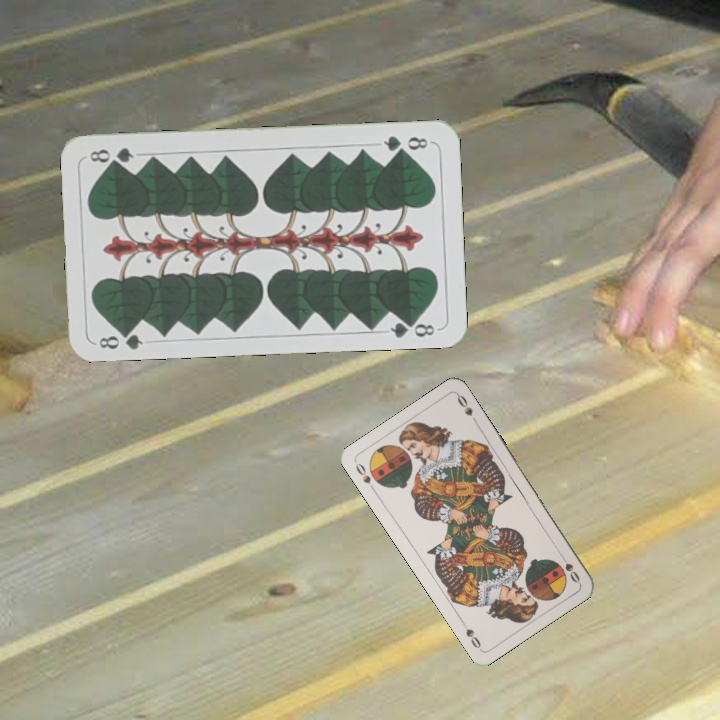G8: (94, 325, 146, 352), (380, 131, 434, 155)
SO: (555, 549, 583, 586), (351, 459, 378, 495)
